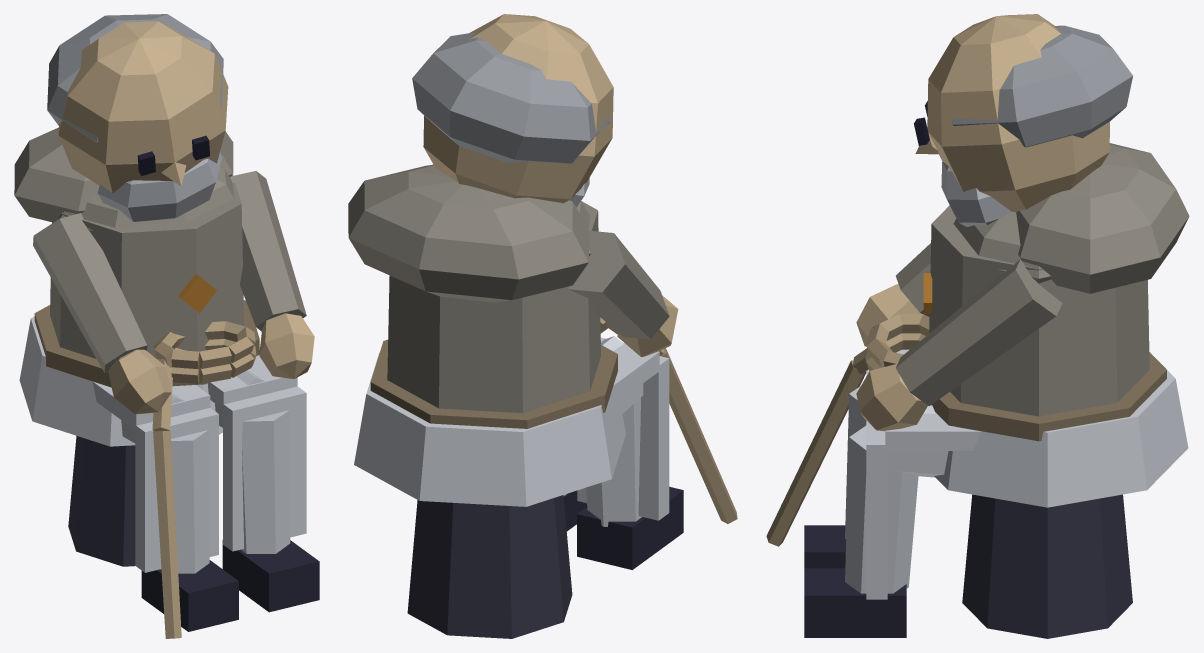
Rendered from merrit.glb.
3 renders of one model, left to right at view 1: azimuth 30°, elevation 25°; view 2: azimuth 150°, elevation 25°; view 3: azimuth 270°, elevation 25°, orthographic. The views are drawn at different scales.
Parts seen in each view (by area): view 1: Torso, Head, LegL, LegR, ArmR, ArmL, Stool; view 2: Torso, Head, Stool, LegR, ArmR, LegL; view 3: Torso, Head, Stool, LegL, ArmL, ArmR, LegR.
Part boxes in pixels (x1,y1,x2,y2): Torso: (14, 127, 259, 638); Head: (47, 14, 228, 221); LegL: (207, 346, 319, 612); LegR: (93, 381, 238, 631); ArmR: (33, 213, 171, 414); ArmL: (230, 171, 314, 378); Stool: (68, 436, 135, 566); Torso: (348, 164, 737, 523); Head: (412, 14, 613, 207); Stool: (407, 495, 572, 638); LegR: (577, 336, 683, 569); ArmR: (568, 230, 678, 356); LegL: (563, 490, 587, 531); Torso: (766, 143, 1189, 546); Head: (914, 14, 1132, 226); Stool: (962, 494, 1132, 638); LegL: (804, 405, 981, 637); ArmL: (856, 259, 1062, 431); ArmR: (856, 243, 930, 346); LegR: (804, 349, 909, 568).
Bounding box in the file's own units: 0.6922 × 1.48 × 0.9912.
